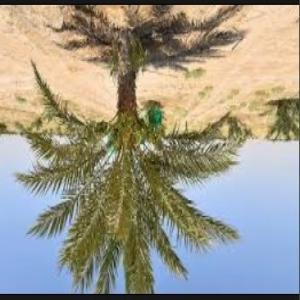palm tree: (0, 3, 255, 292)
